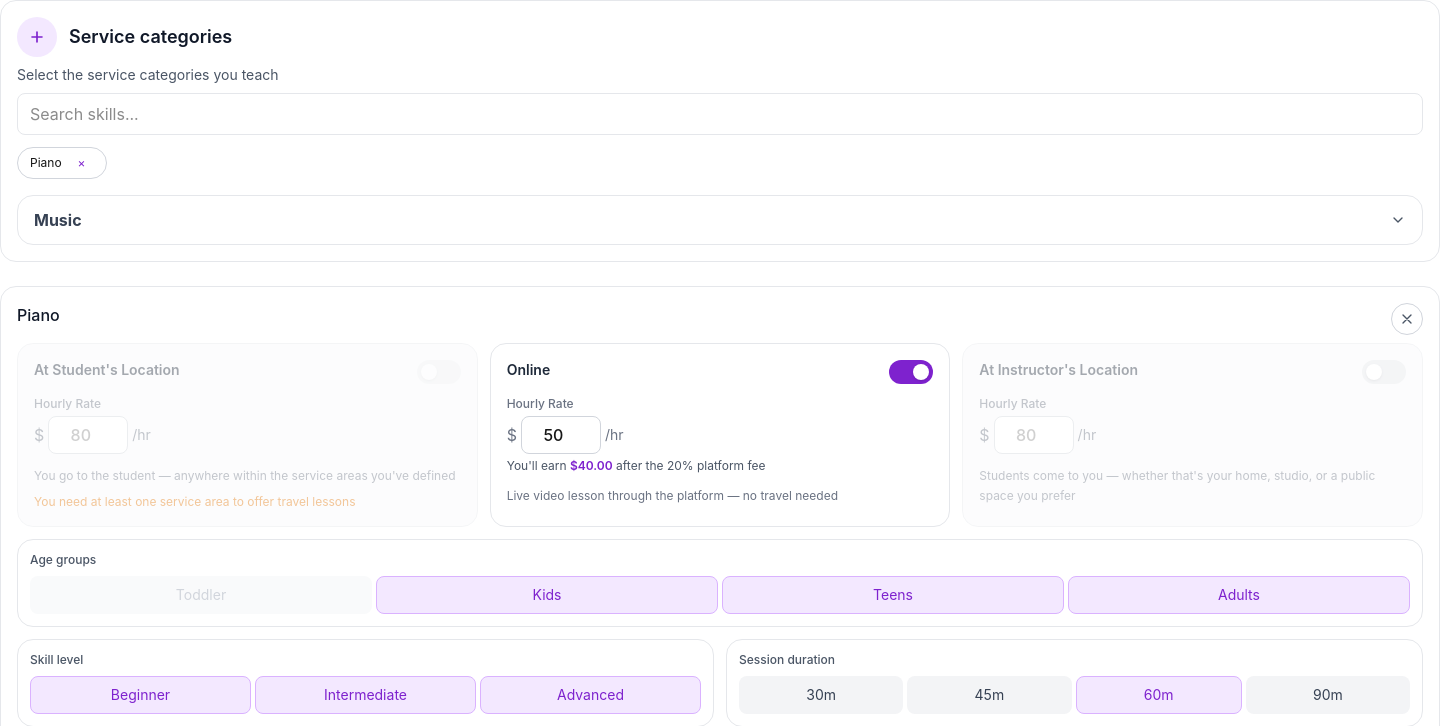
Test: SkillsPricingInline › handles API error on save
The image size is (1440, 726).
Replace the text in the 2nd number field with "60": {"x": 561, "y": 435} [521,416,601,454]
Wait 1200 ms
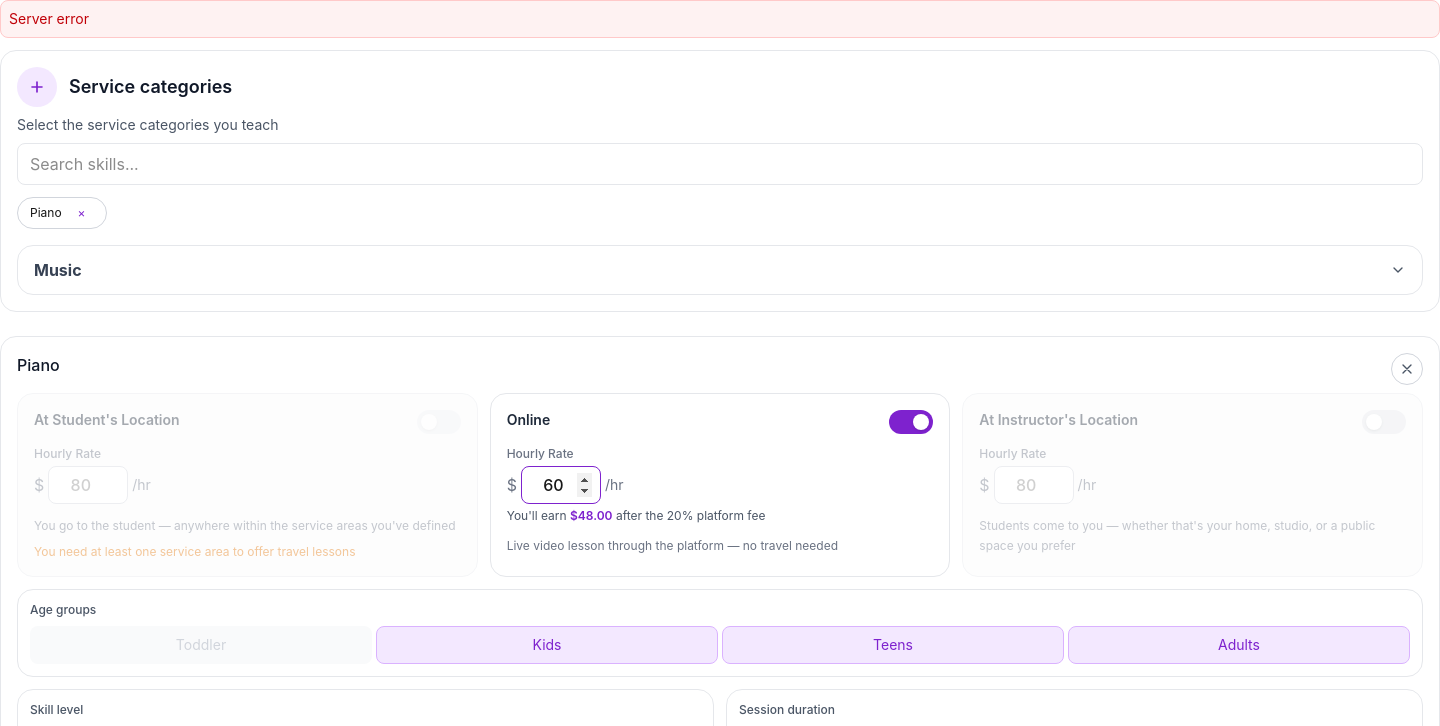
Result: the text "Server error" is shown at [0,0,1439,38]
